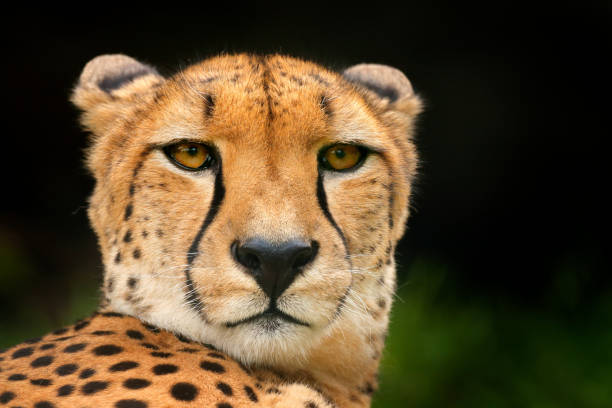cheetah: (46, 28, 442, 384)
